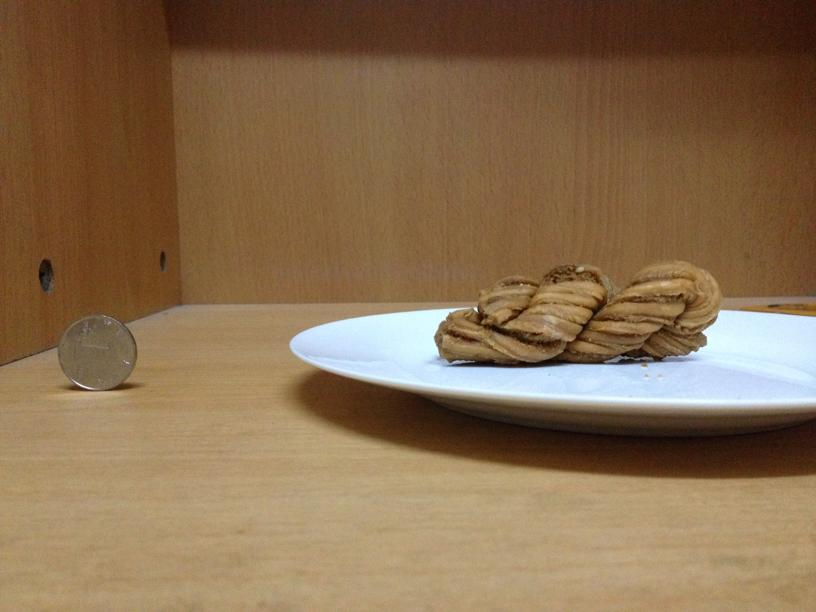coin: (55, 315, 137, 390)
fired_dough_twist: (435, 262, 723, 364)
